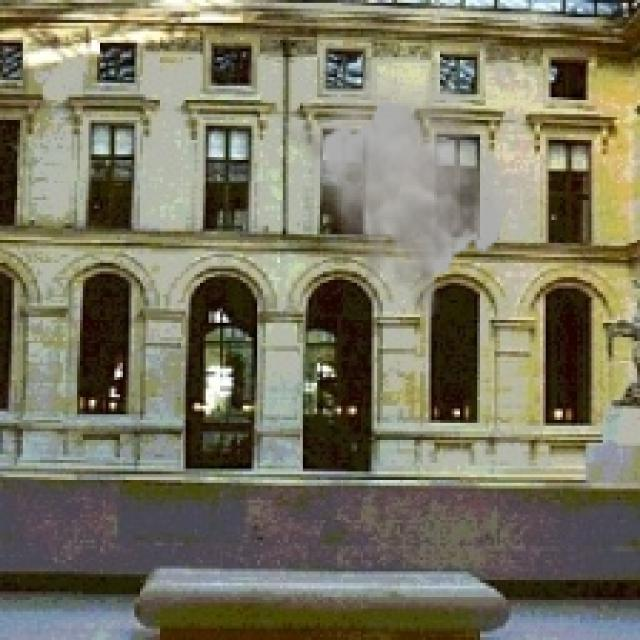smoke: (283, 66, 514, 326)
